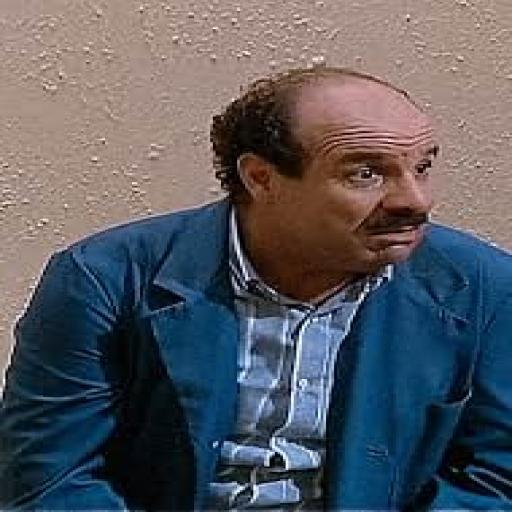beji_matrix: (235, 81, 439, 280)
